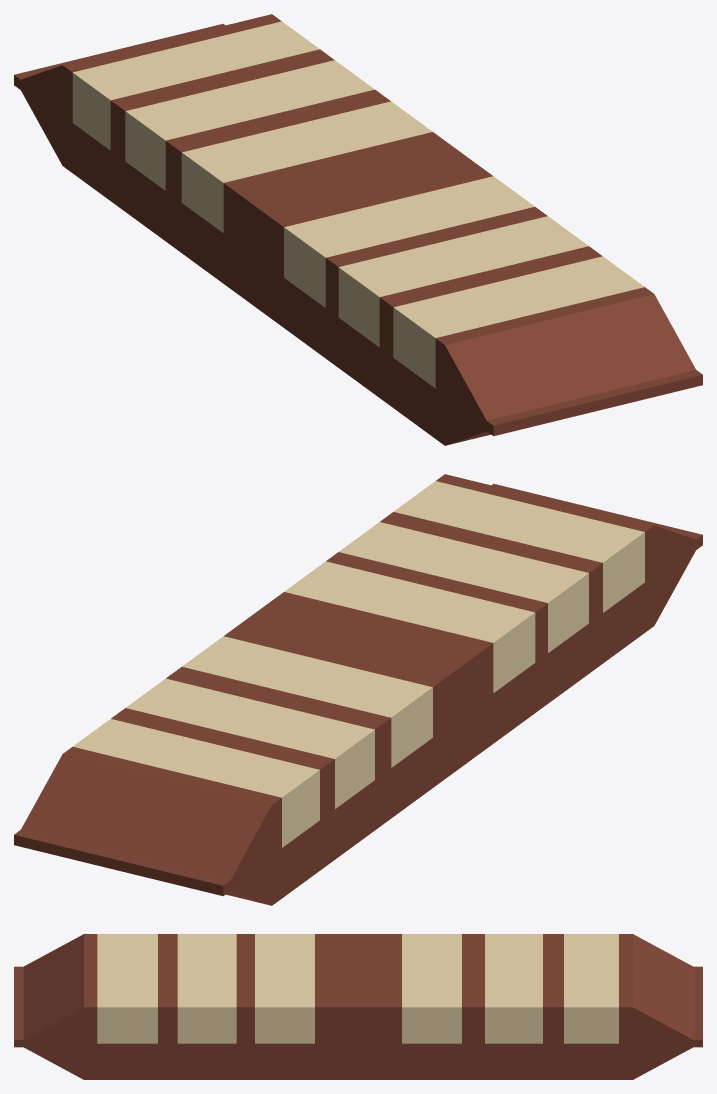
The model's file is biscuits.fbx.
3 views of the same model, one above another, from view 1: azimuth 30°, elevation 25°; view 2: azimuth 150°, elevation 25°; view 3: azimuth 270°, elevation 25° (orthographic). The views are drawn at different scales.
Visible parts, largest first — view 1: Biscuits; view 2: Biscuits; view 3: Biscuits.
Part boxes in pixels (left/top/right/bottom): Biscuits: left=14, top=14, right=702, bottom=445; Biscuits: left=14, top=474, right=702, bottom=905; Biscuits: left=14, top=934, right=702, bottom=1079.
Bounding box in the file's own units: 6.32 × 2.91 × 25.09.
